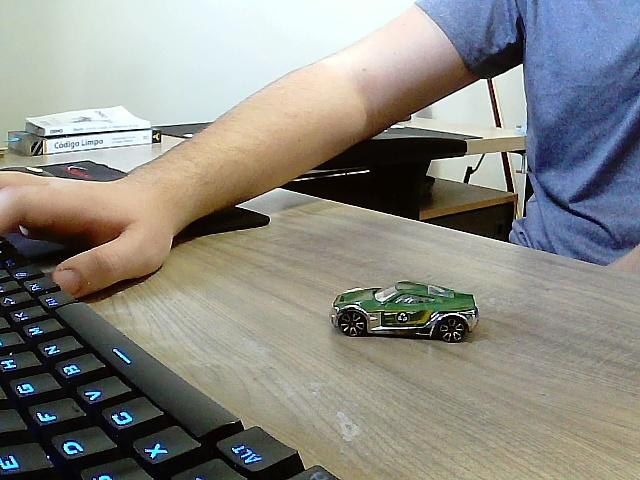Carro: (333, 282, 480, 343)
